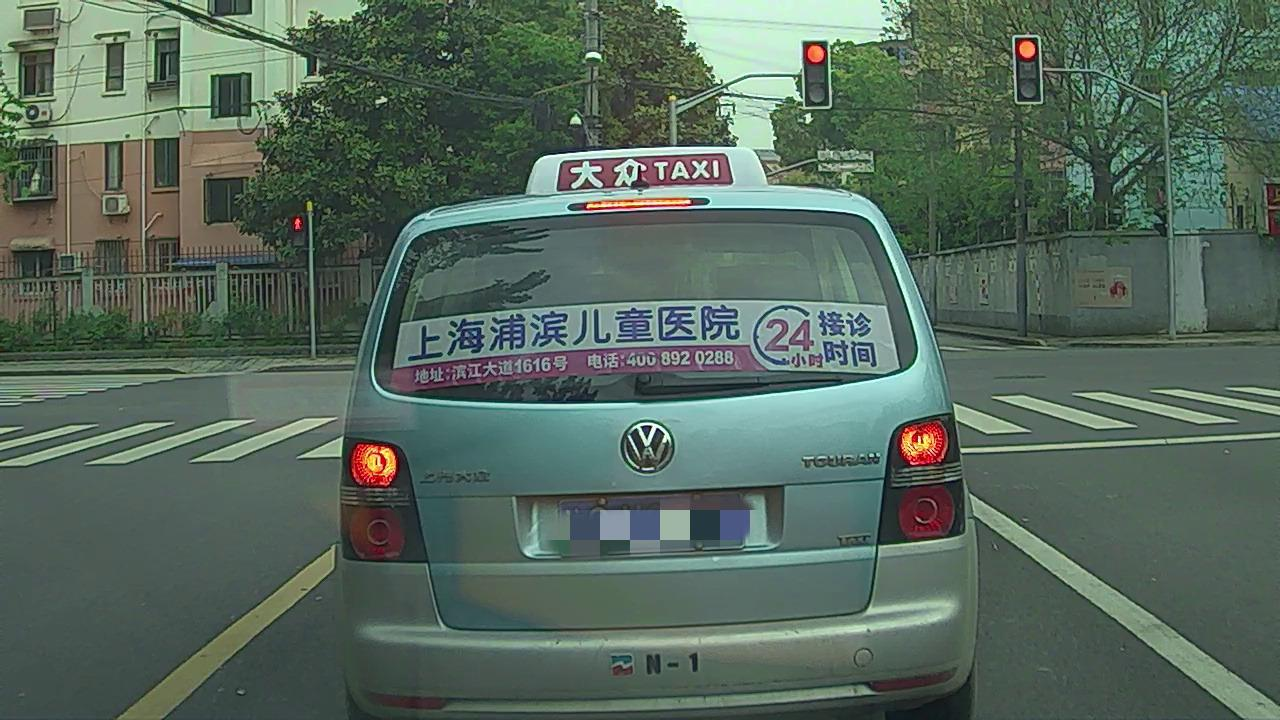traffic_light: (805, 38, 832, 110), (1017, 31, 1043, 103)
